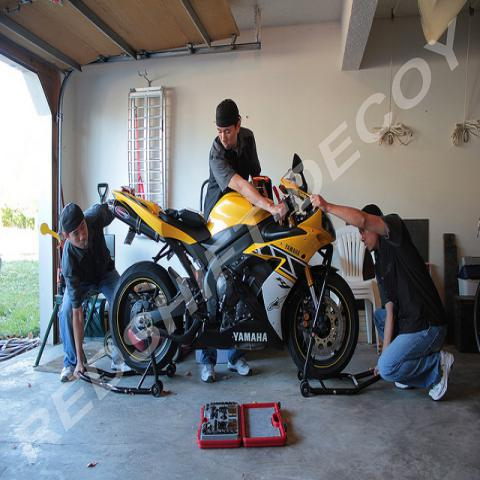motorcycle: (107, 151, 360, 386)
